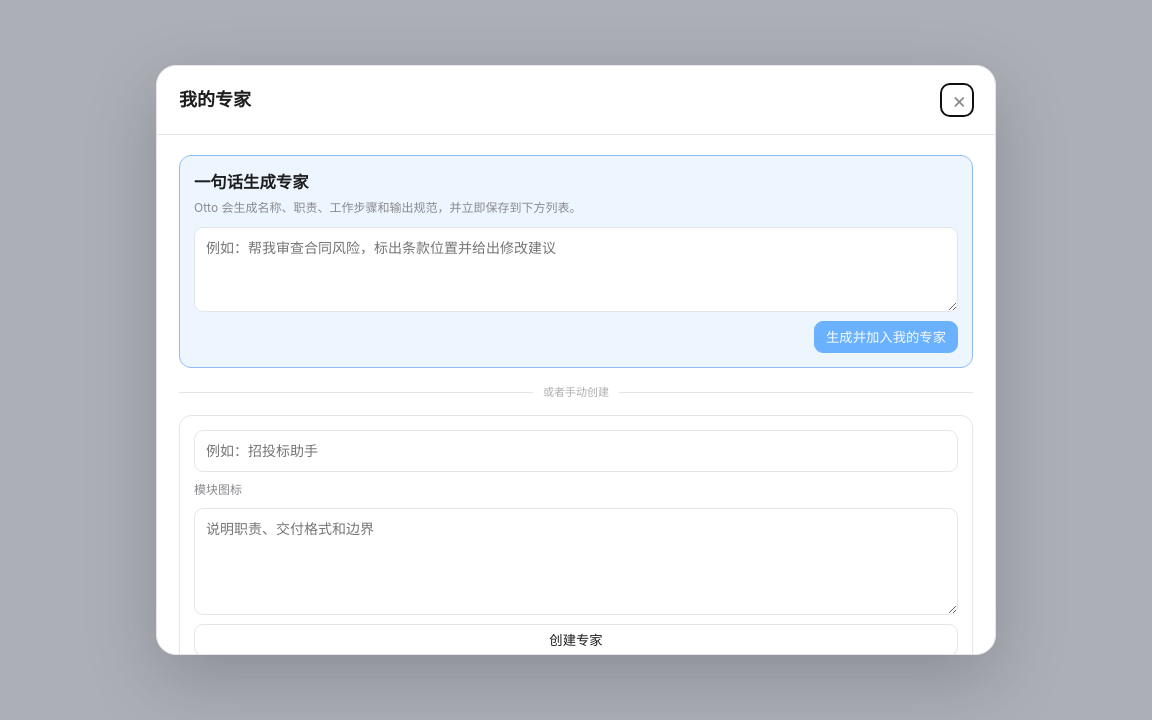
Test case: WorkspaceDialogs › 输入一句需求后生成专家并直接加入我的专家
This screenshot has width=1152, height=720.
Type "帮我审查合同风险并给出修改建议" into the text box named "一句话专家需求".
click(576, 269); type("帮我审查合同风险并给出修改建议")  # box [194, 227, 958, 312]
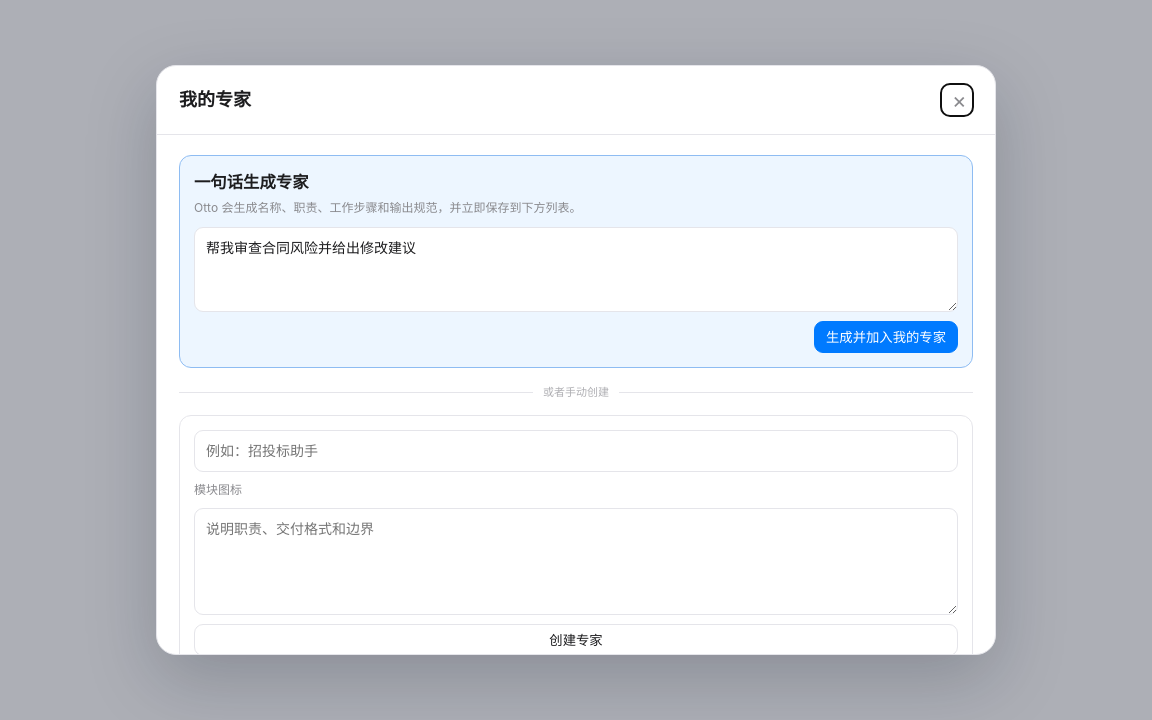
Click the button "生成并加入我的专家".
click(886, 337)  # box [814, 321, 958, 353]
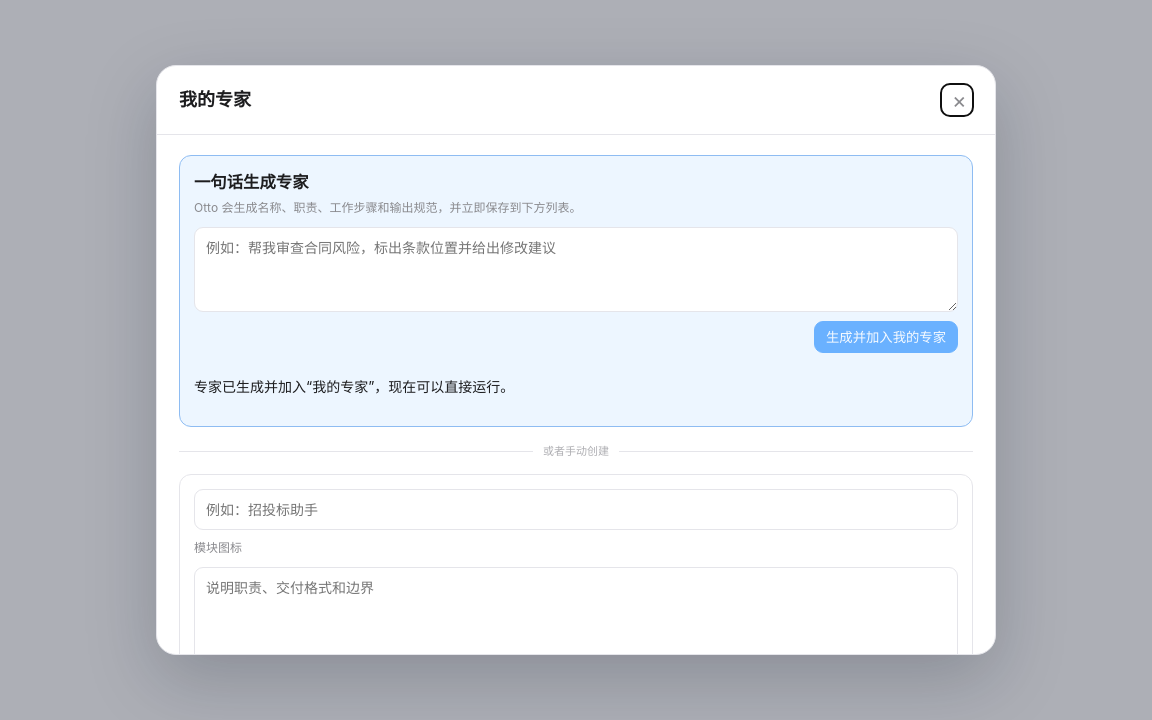
Result: the message shows "已生成并加入“我的专家”" at [194, 378, 514, 395]
Result: the text box named "一句话专家需求" is empty at [194, 227, 958, 312]
